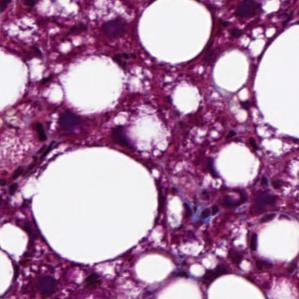inflammation: (196, 201, 224, 225)
